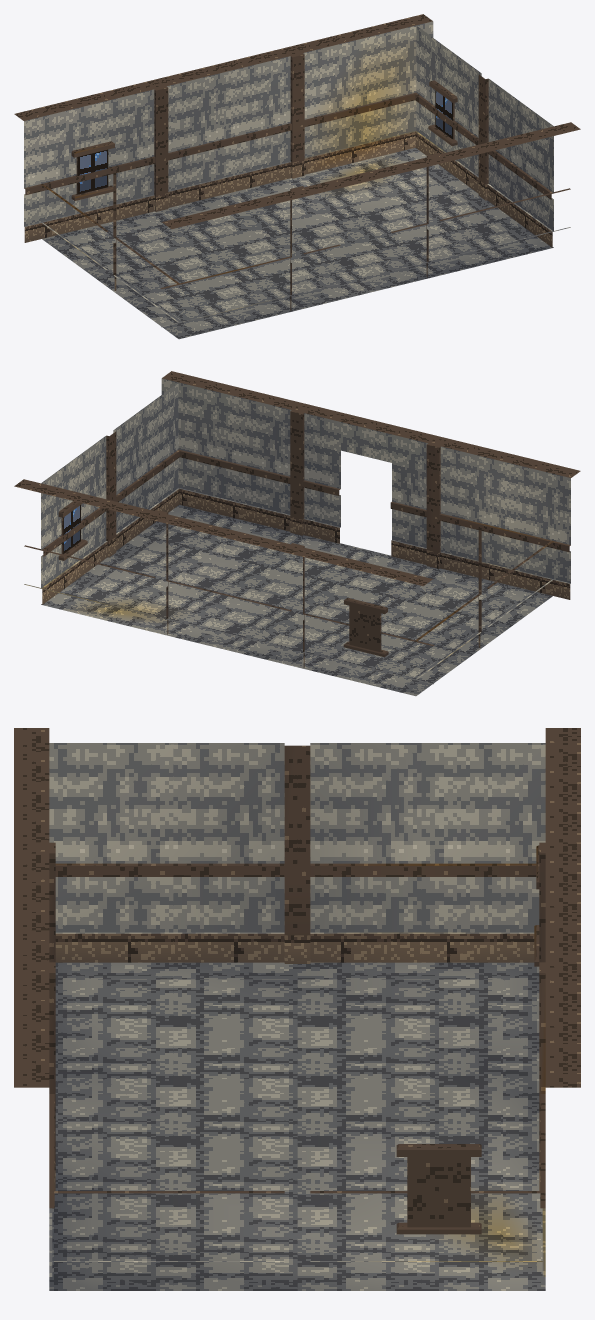
File: vlg.room__taproom.glb
The picture shows the model from 3 angles, top to bottom: view 1: azimuth 30°, elevation 25°; view 2: azimuth 150°, elevation 25°; view 3: azimuth 270°, elevation 25°; orthographic projection. The views are drawn at different scales.
Parts seen in each view (by area): view 1: kit_shell_walls, kit_shell_floor, kit_fittings; view 2: kit_shell_walls, kit_shell_floor, kit_fittings; view 3: kit_shell_floor, kit_shell_walls, kit_fittings.
Boxes of the visible parts, x1=… form: kit_shell_walls: x1=14, y1=14, x2=580, y2=327; kit_shell_floor: x1=42, y1=148, x2=553, y2=339; kit_fittings: x1=71, y1=80, x2=457, y2=200; kit_shell_walls: x1=14, y1=371, x2=580, y2=684; kit_shell_floor: x1=41, y1=505, x2=552, y2=696; kit_fittings: x1=58, y1=501, x2=388, y2=657; kit_shell_floor: x1=49, y1=962, x2=545, y2=1290; kit_shell_walls: x1=14, y1=728, x2=580, y2=1276; kit_fittings: x1=396, y1=845, x2=539, y2=1234.
Bounding box in the file's own units: 12 × 3.4 × 8.
6 materials, 6 textured.
